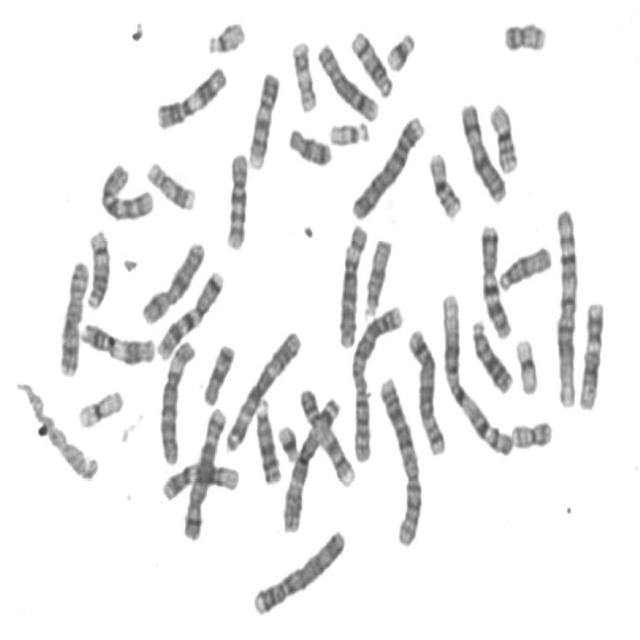A1: (436, 284, 515, 460), (550, 200, 580, 412)
A2: (348, 297, 405, 465), (374, 370, 425, 548)
A3: (221, 322, 304, 454), (278, 387, 344, 534)
B4: (248, 522, 348, 618), (348, 107, 427, 222)
B5: (179, 399, 229, 543), (403, 321, 449, 458)
C10: (96, 155, 156, 223), (220, 145, 250, 252)
C11: (152, 58, 230, 132), (77, 315, 158, 367)
C12: (157, 456, 241, 503), (574, 295, 606, 411)
C6: (155, 333, 198, 467), (333, 217, 371, 350)
C7: (152, 262, 226, 362), (476, 217, 514, 340)
C8: (314, 36, 382, 122), (55, 254, 92, 379)
C9: (296, 382, 358, 488), (243, 66, 282, 171)
D13: (466, 312, 515, 396), (250, 393, 284, 486)
D14: (346, 23, 396, 98), (82, 223, 112, 311)
D15: (494, 238, 554, 293), (360, 231, 394, 320)
E16: (424, 144, 464, 221), (485, 96, 521, 175)
E17: (142, 154, 198, 213), (288, 34, 319, 114)
E18: (198, 336, 236, 407), (284, 120, 334, 168)
F19: (73, 383, 126, 430), (512, 331, 542, 396)
F20: (499, 14, 549, 54), (508, 413, 554, 451)
G21: (382, 24, 417, 73), (274, 418, 302, 464)
G22: (203, 14, 248, 56), (324, 114, 372, 148)
X: (136, 234, 206, 326), (456, 95, 509, 205)
